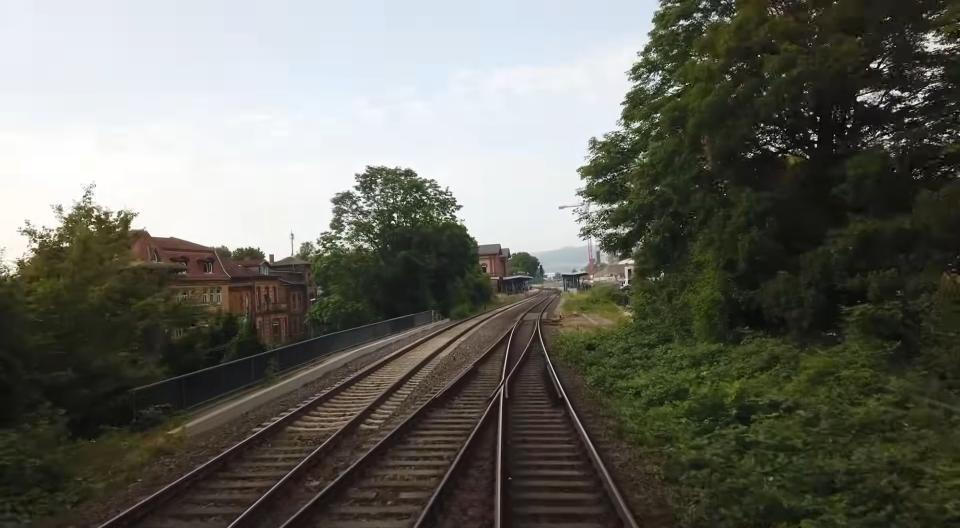Plant: (551, 321, 906, 528), (0, 427, 186, 528)
